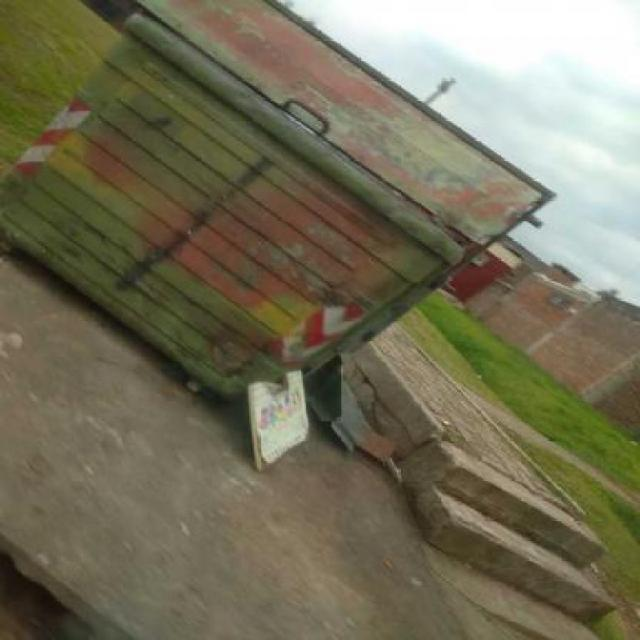garbage: (245, 345, 368, 492)
